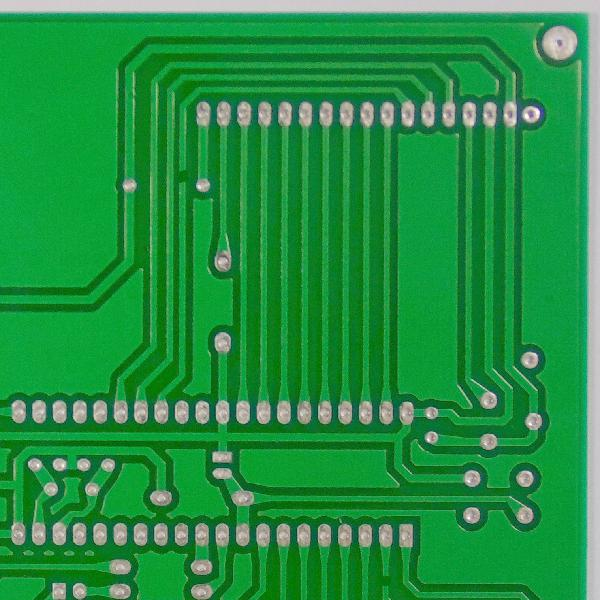open_circuit: (176, 167, 192, 187), (380, 572, 396, 589)
